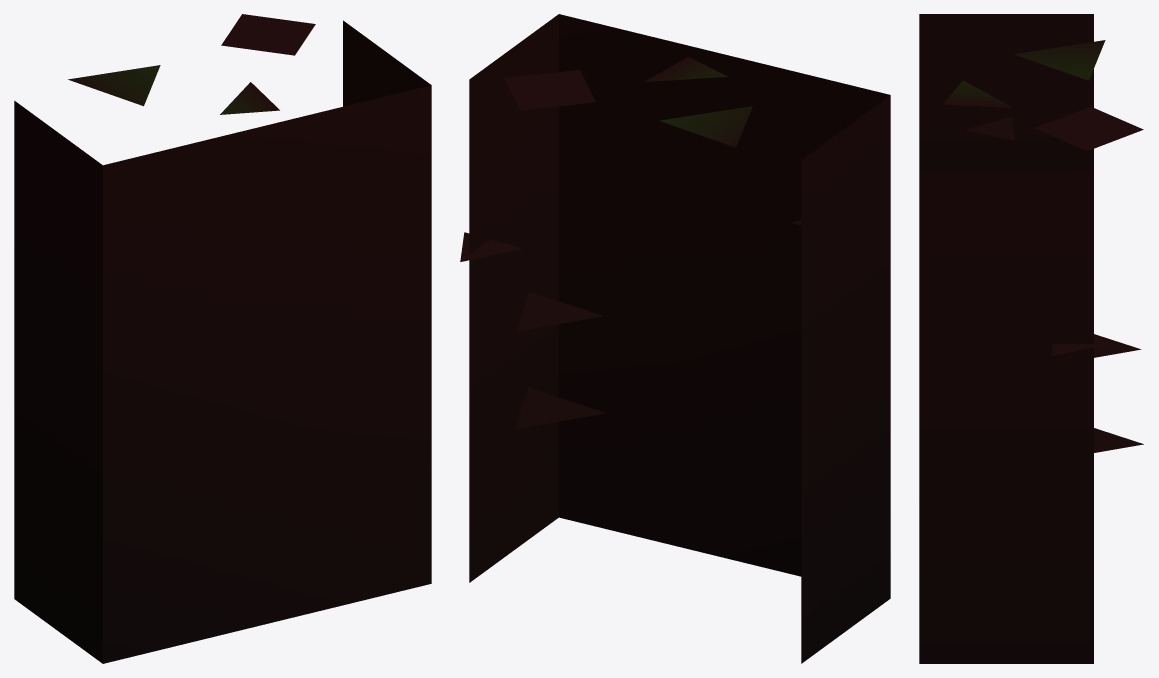
The model's file is tf_basalt_columns_m_8m_lod2.glb.
3 renders of one model, left to right at view 1: azimuth 30°, elevation 25°; view 2: azimuth 150°, elevation 25°; view 3: azimuth 270°, elevation 25°, orthographic. The views are drawn at different scales.
Visible parts, largest first — view 1: tf_basalt_columns_m_8m_lod2; view 2: tf_basalt_columns_m_8m_lod2; view 3: tf_basalt_columns_m_8m_lod2.
Part boxes in pixels (x1=…): tf_basalt_columns_m_8m_lod2: x1=14, y1=14, x2=431, y2=663; tf_basalt_columns_m_8m_lod2: x1=460, y1=14, x2=890, y2=663; tf_basalt_columns_m_8m_lod2: x1=919, y1=14, x2=1143, y2=663.
Size of the model in its own units: 6.49 by 8.81 by 3.61.
